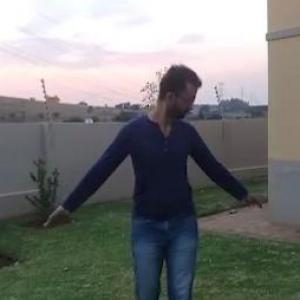land: (38, 54, 278, 299)
